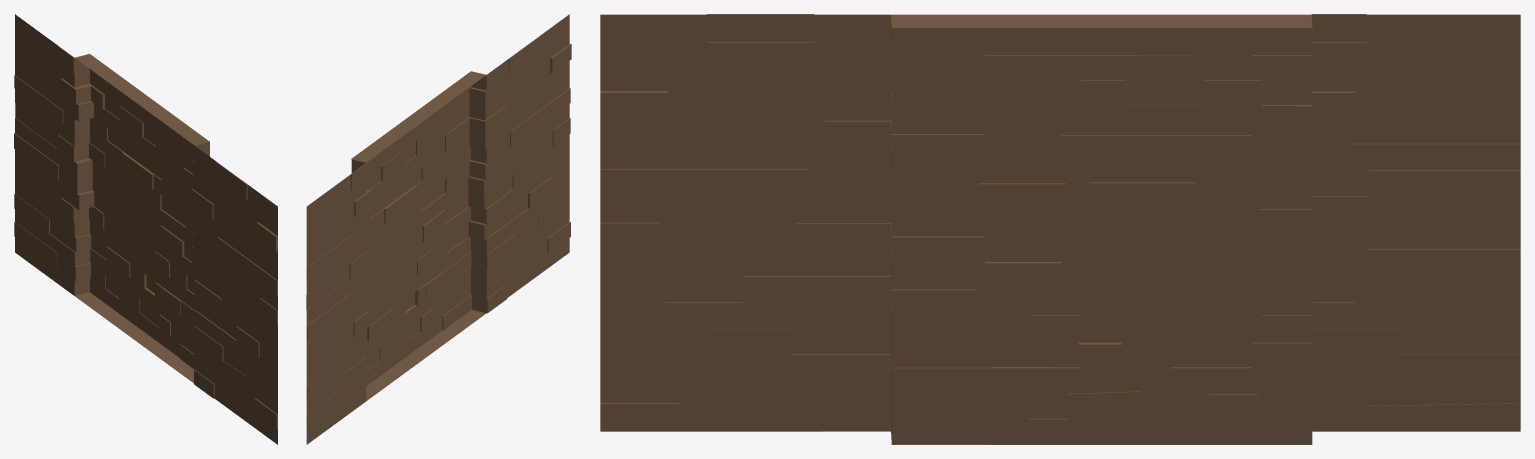
File: Corridor_Wall_Fake.fbx
The picture shows the model from 3 angles, left to right: view 1: azimuth 30°, elevation 25°; view 2: azimuth 150°, elevation 25°; view 3: azimuth 270°, elevation 25°; orthographic projection. The views are drawn at different scales.
Parts seen in each view (by area): view 1: Corridor_Wall_Fake; view 2: Corridor_Wall_Fake; view 3: Corridor_Wall_Fake.
Part boxes in pixels (x1,y1,x2,y2): Corridor_Wall_Fake: [14, 14, 277, 444]; Corridor_Wall_Fake: [306, 14, 571, 444]; Corridor_Wall_Fake: [600, 14, 1520, 444].
Size of the model in its own units: 21.42 by 248 by 497.
